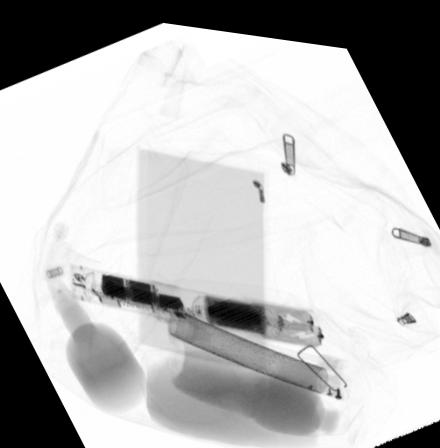Baton: (67, 259, 330, 341)
